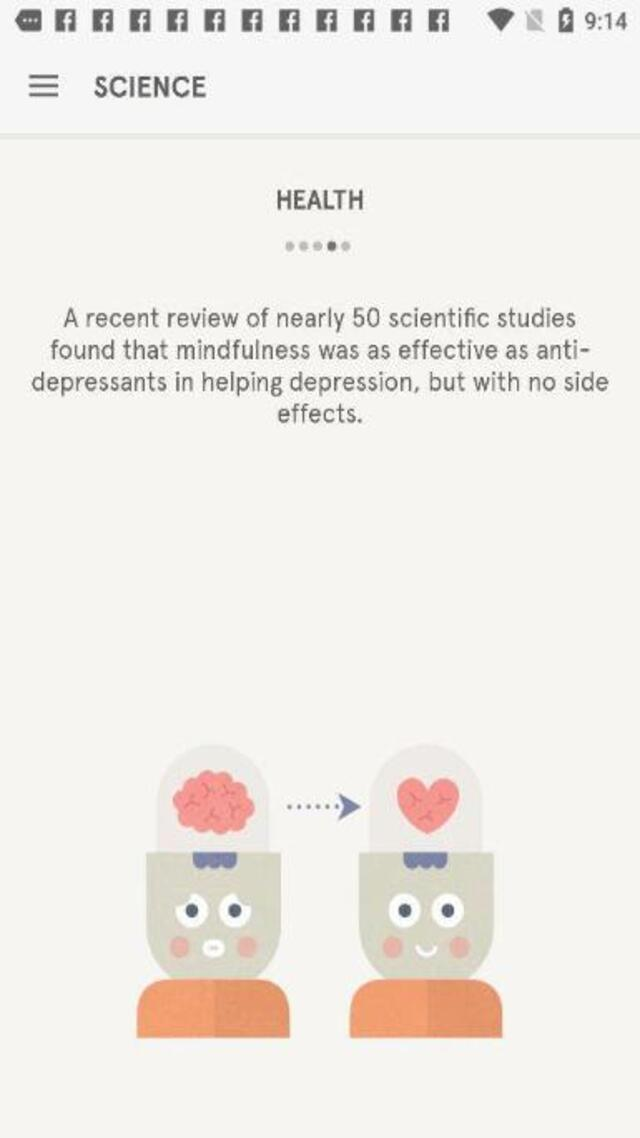Icon: (27, 73, 59, 98)
Image: (136, 740, 502, 1035)
Text: (25, 366, 612, 398), (46, 334, 596, 364), (60, 306, 586, 333), (94, 74, 205, 100), (273, 400, 369, 428), (276, 188, 362, 209)
